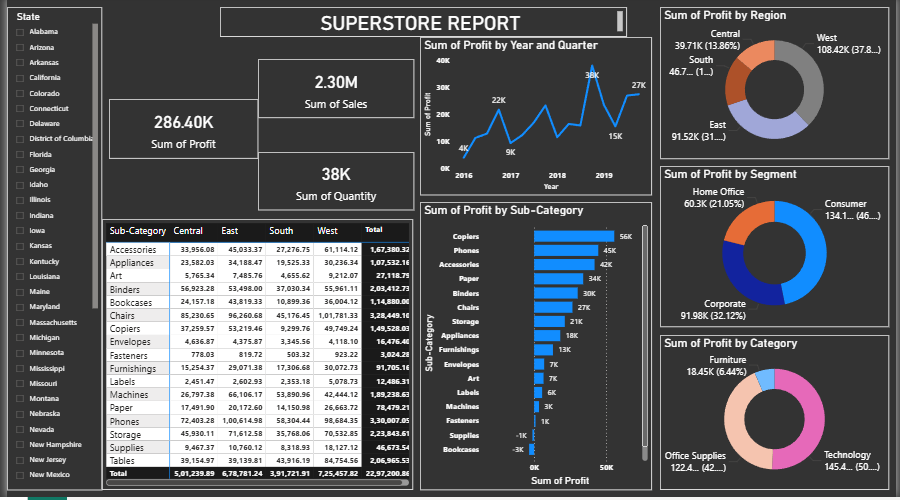

Layout of this report page (visuals, bound fields, positions):
{"tool":"powerbi","page":{"name":"Page 1","canvas":[1280,720],"ordinal":0},"visuals":[{"type":"donutChart","fields":{"Y":["Sum(Orders.Profit)"],"Category":["Orders.Region"]},"box":[940.3,14.4,329.8,218.9],"z":0},{"type":"donutChart","fields":{"Y":["Sum(Orders.Profit)"],"Category":["Orders.Segment"]},"box":[940.3,243.4,329.8,231.8],"z":1000},{"type":"donutChart","fields":{"Y":["Sum(Orders.Profit)"],"Category":["Orders.Category"]},"box":[940.3,486.7,329.8,223.2],"z":2000},{"type":"clusteredBarChart","fields":{"Category":["Orders.Sub-Category"],"Y":["Sum(Orders.Profit)"]},"box":[594.7,295.2,334.1,414.7],"z":3000},{"type":"lineChart","fields":{"Y":["Sum(Orders.Profit)"],"Category":["Orders.Order Date.Variation.Date Hierarchy.Year","Orders.Order Date.Variation.Date Hierarchy.Quarter"]},"box":[594.7,57.6,334.1,227.5],"z":4000},{"type":"slicer","fields":{"Values":["Orders.State"]},"box":[0,14.4,136.8,695.5],"z":5000},{"type":"pivotTable","fields":{"Rows":["Orders.Sub-Category"],"Columns":["Orders.Region"],"Values":["Sum(Orders.Sales)"]},"box":[136.8,319.7,447.8,390.2],"z":6000},{"type":"card","fields":{"Values":["Sum(Orders.Sales)"]},"box":[361.4,89.3,224.6,85],"z":7000},{"type":"card","fields":{"Values":["Sum(Orders.Profit)"]},"box":[146.9,146.9,214.6,86.4],"z":8000},{"type":"card","fields":{"Values":["Sum(Orders.Quantity)"]},"box":[361.4,223.2,224.6,83.5],"z":9000},{"type":"textbox","box":[306.7,14.4,586.1,43.2],"z":9001}]}

Visuals, with their boxes in screenshot pixels (x1, y1, x2, y2), scaled from the page's 1280x720 canvas onto the 900x500 screenshot:
donutChart - Sum(Orders.Profit) x Orders.Region: 661 10 893 162
donutChart - Sum(Orders.Profit) x Orders.Segment: 661 169 893 330
donutChart - Sum(Orders.Profit) x Orders.Category: 661 338 893 493
clusteredBarChart - Orders.Sub-Category x Sum(Orders.Profit): 418 205 653 493
lineChart - Sum(Orders.Profit) x Orders.Order Date.Variation.Date Hierarchy.Year: 418 40 653 198
slicer - Orders.State: 0 10 96 493
pivotTable - Orders.Sub-Category x Orders.Region: 96 222 411 493
card - Sum(Orders.Sales): 254 62 412 121
card - Sum(Orders.Profit): 103 102 254 162
card - Sum(Orders.Quantity): 254 155 412 213
textbox: 216 10 628 40
